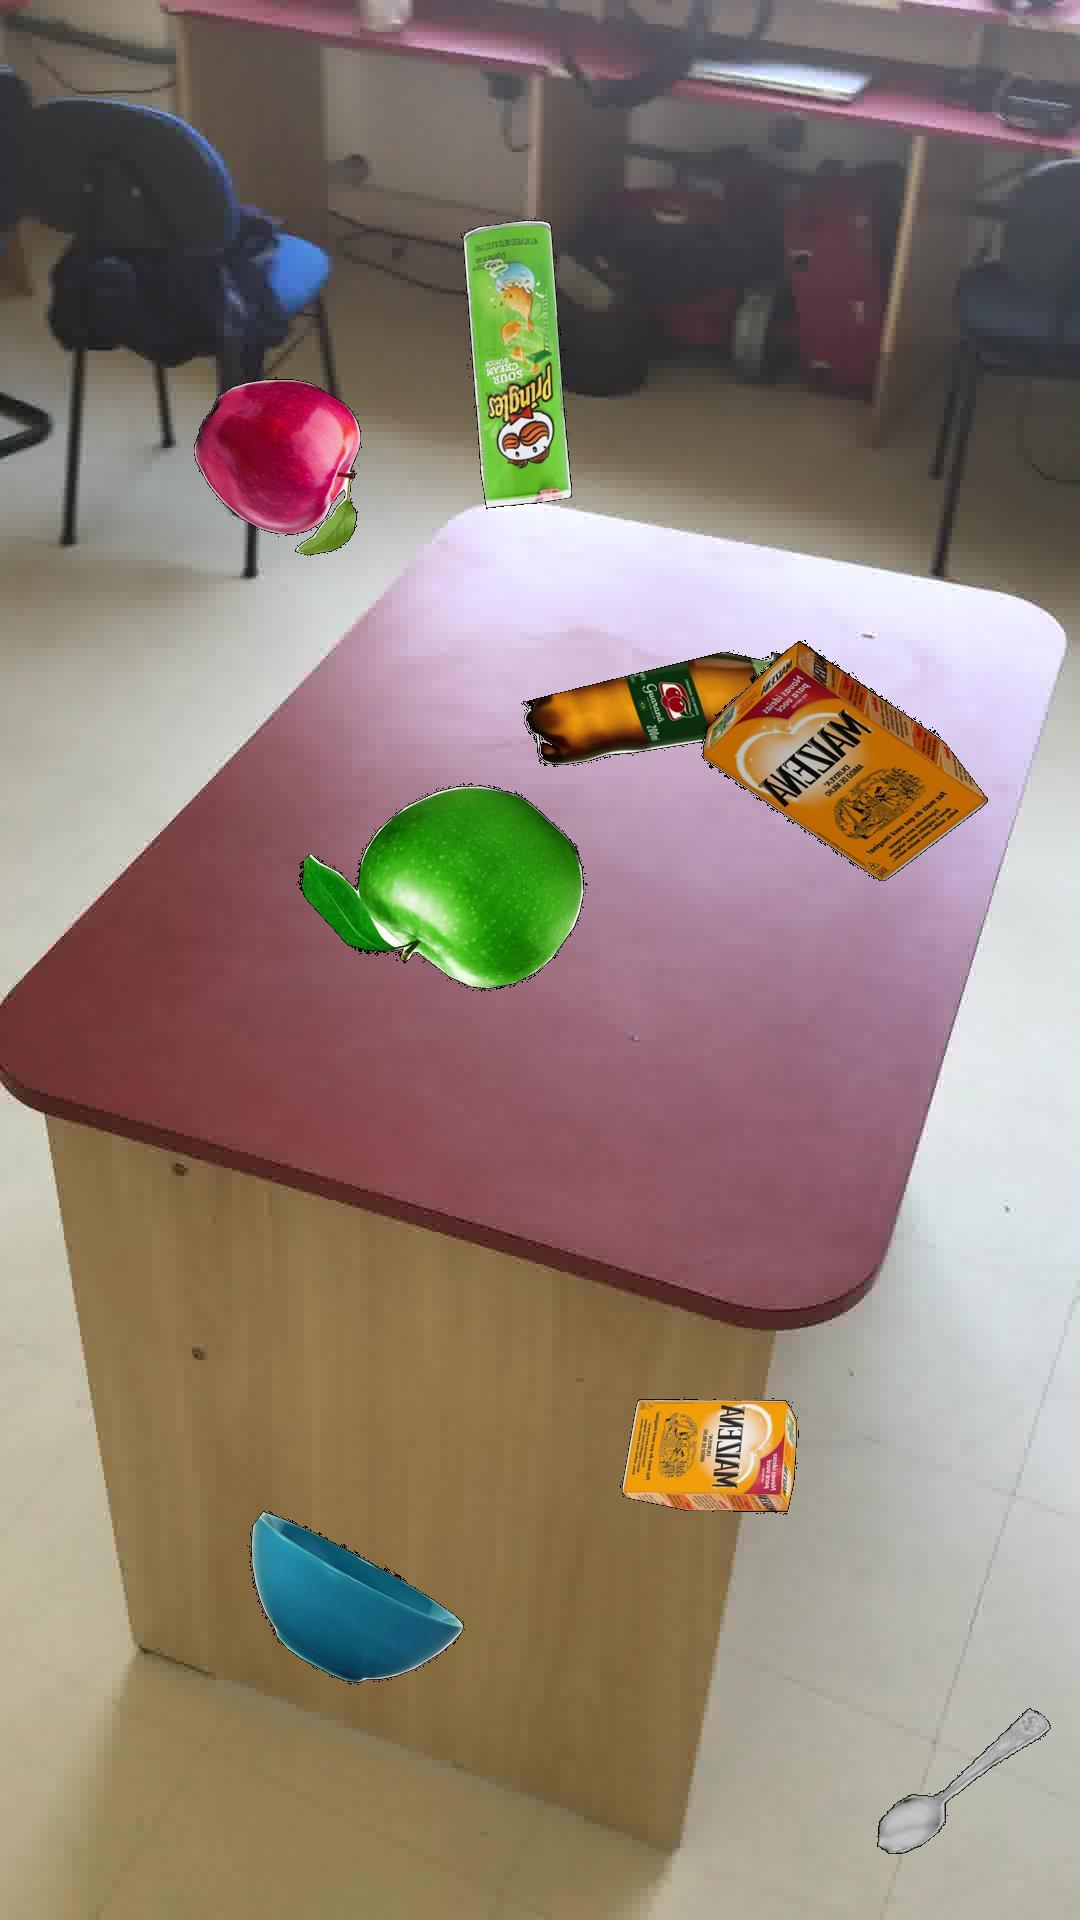apple: (193, 376, 360, 554)
bowl: (248, 1510, 463, 1681)
green apple: (298, 783, 583, 989)
guarana: (521, 650, 781, 766)
pringles: (459, 219, 571, 508)
spoon: (876, 1706, 1050, 1853)
